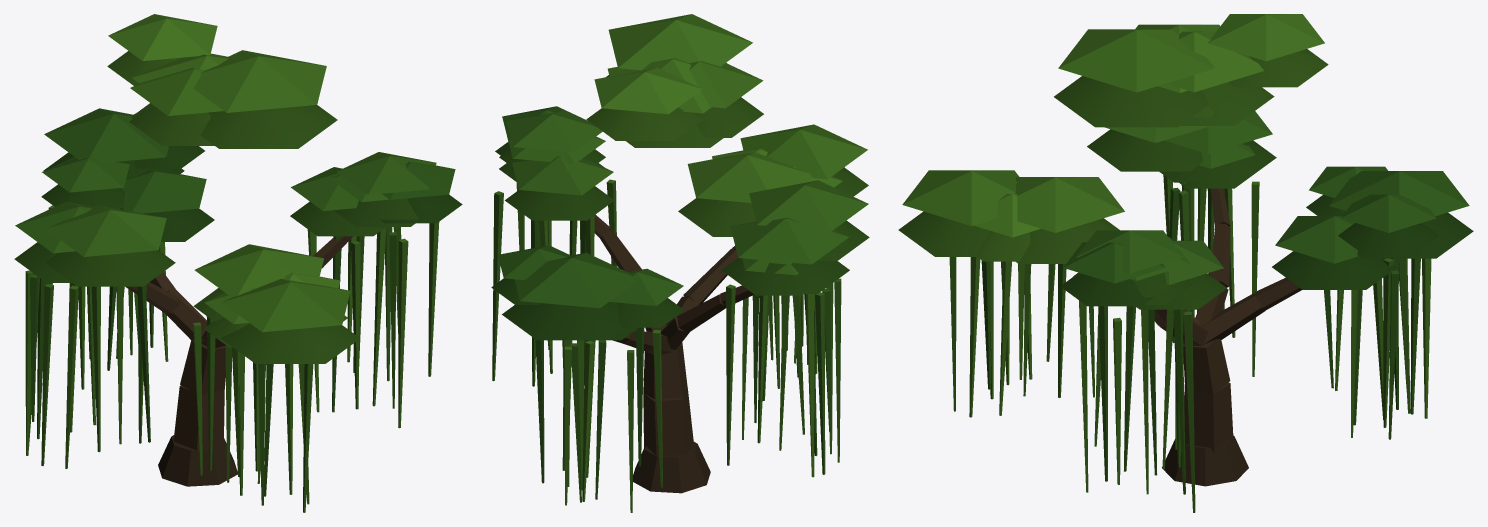
File: tree_willow_2_mid.glb
The picture shows the model from 3 angles, left to right: view 1: azimuth 30°, elevation 25°; view 2: azimuth 150°, elevation 25°; view 3: azimuth 270°, elevation 25°; orthographic projection. The views are drawn at different scales.
Parts seen in each view (by area): view 1: leaf, wood; view 2: leaf, wood; view 3: leaf, wood.
Boxes of the visible parts, bbox=[...] form: leaf: bbox=[14, 14, 462, 512]; wood: bbox=[125, 236, 352, 486]; leaf: bbox=[491, 14, 869, 512]; wood: bbox=[583, 214, 753, 493]; leaf: bbox=[898, 14, 1473, 512]; wood: bbox=[1154, 188, 1302, 486].
Size of the model in its own units: 7.91 by 8.56 by 9.87.
